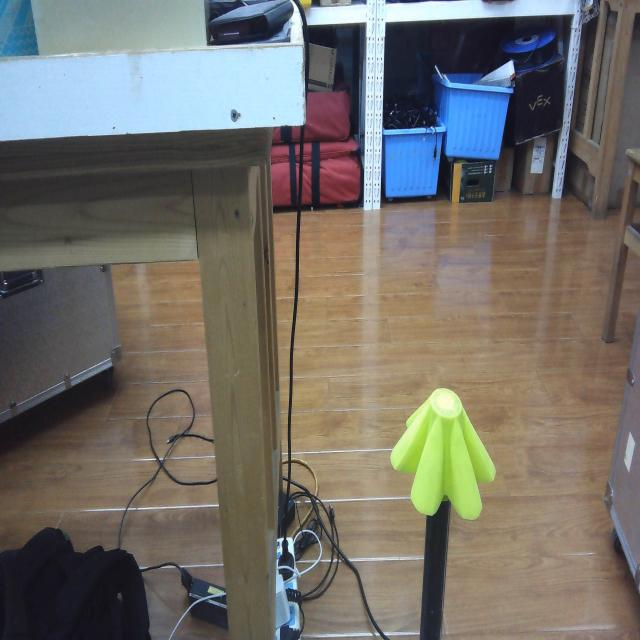Yellow-Stake-Head: (390, 388, 496, 521)
